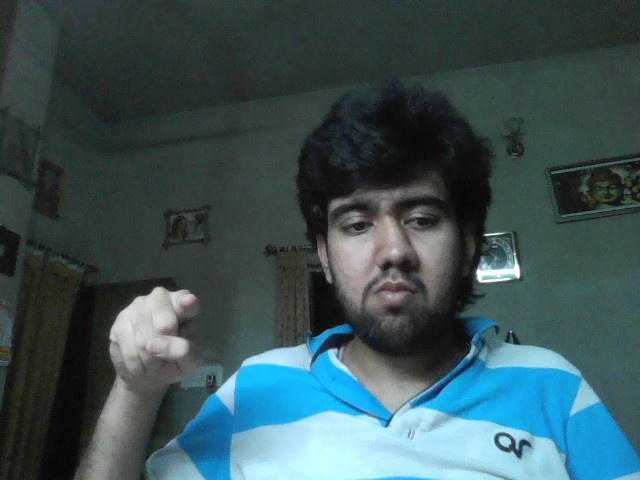You: (108, 287, 199, 386)
